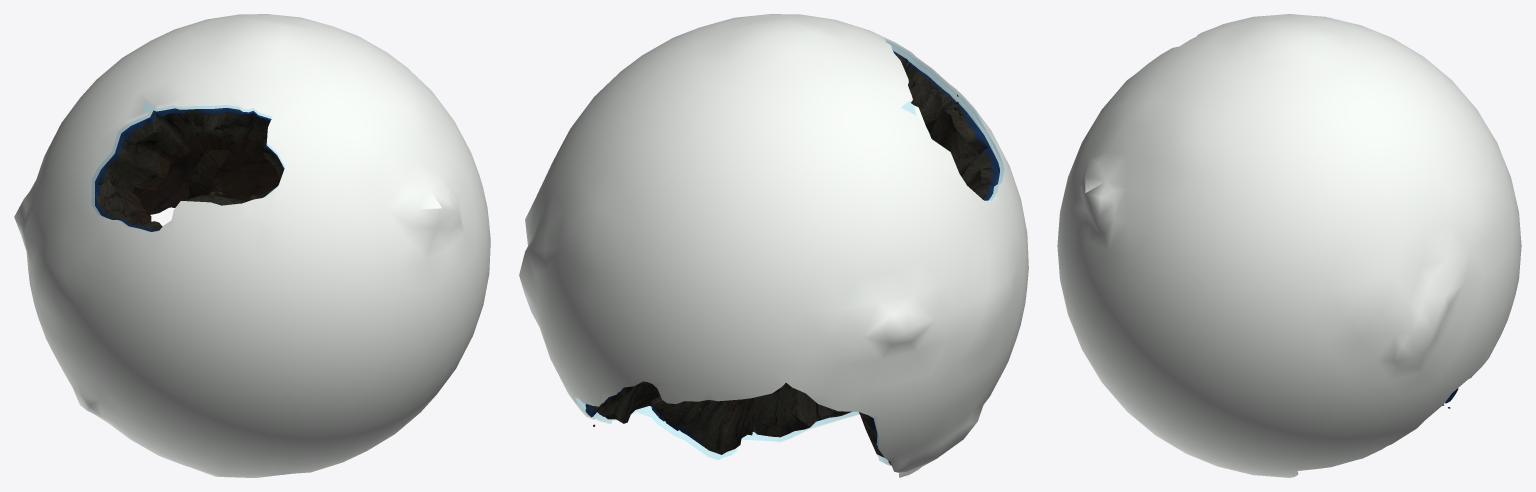
File: Union 4.fbx
3 views of the same model, side by side, from view 1: azimuth 30°, elevation 25°; view 2: azimuth 150°, elevation 25°; view 3: azimuth 270°, elevation 25° (orthographic). The views are drawn at different scales.
Parts seen in each view (by area): view 1: Union_4; view 2: Union_4; view 3: Union_4.
Part boxes in pixels (box(x1,y1,x2,y2)): Union_4: box(14, 14, 490, 477); Union_4: box(519, 14, 1028, 477); Union_4: box(1057, 14, 1521, 477).
Bounding box in the file's own units: 10462 × 10216 × 10353.
